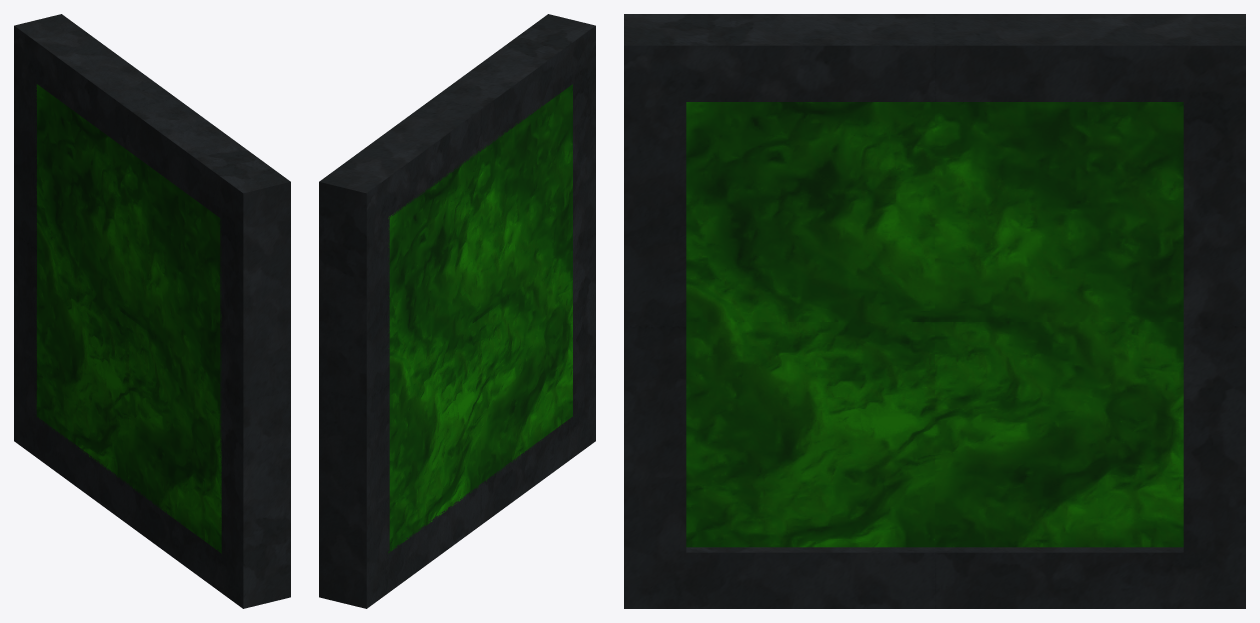
The model's file is poisonpool.glb.
3 views of the same model, side by side, from view 1: azimuth 30°, elevation 25°; view 2: azimuth 150°, elevation 25°; view 3: azimuth 270°, elevation 25° (orthographic). The views are drawn at different scales.
Parts seen in each view (by area): view 1: mergedBlocks(Clone); view 2: mergedBlocks(Clone); view 3: mergedBlocks(Clone).
Boxes of the visible parts, <box> form: mergedBlocks(Clone): <box>14,14,290,608</box>; mergedBlocks(Clone): <box>319,14,595,608</box>; mergedBlocks(Clone): <box>624,14,1245,608</box>.
Bounding box in the file's own units: 0.12 × 1 × 1.
2 materials, 2 textured.
